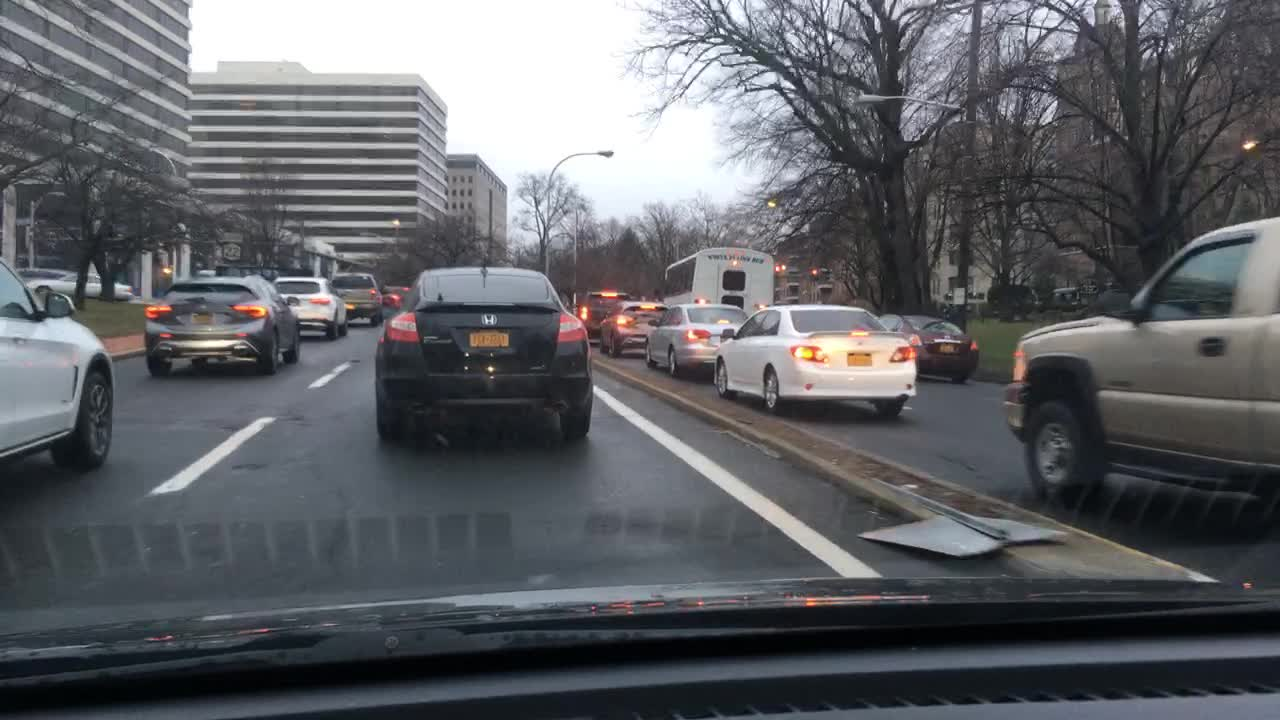bus: (663, 244, 776, 318)
car: (1000, 215, 1278, 497), (374, 264, 593, 441), (0, 258, 117, 472), (712, 303, 915, 415), (142, 274, 301, 374), (878, 311, 978, 384), (646, 305, 748, 374), (274, 278, 346, 335), (600, 301, 672, 356), (578, 291, 633, 346), (29, 270, 132, 296), (331, 274, 384, 323), (379, 283, 413, 307)
traffic sign: (222, 245, 238, 262), (219, 233, 243, 243)
